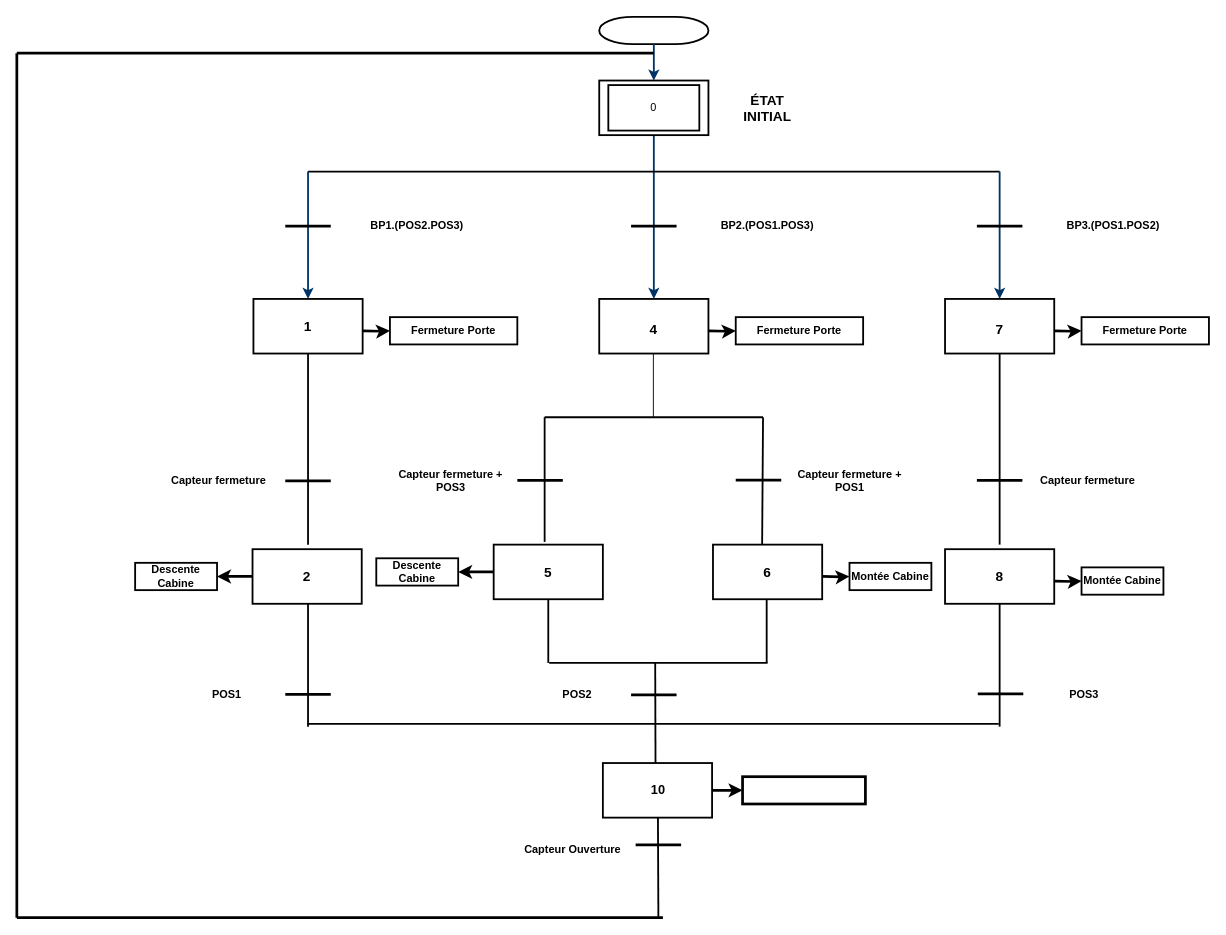
This 1226x935 diagram has some shape labels left out. Here are the shapes that lost their labels. From the top down, the box of each, then its label:
(598, 15, 709, 45): start
(741, 775, 866, 805): Ouverture porte
